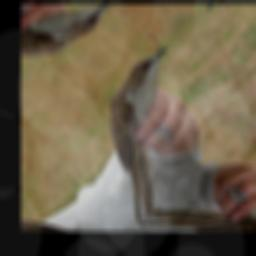Cuckoo: (48, 40, 250, 225)
